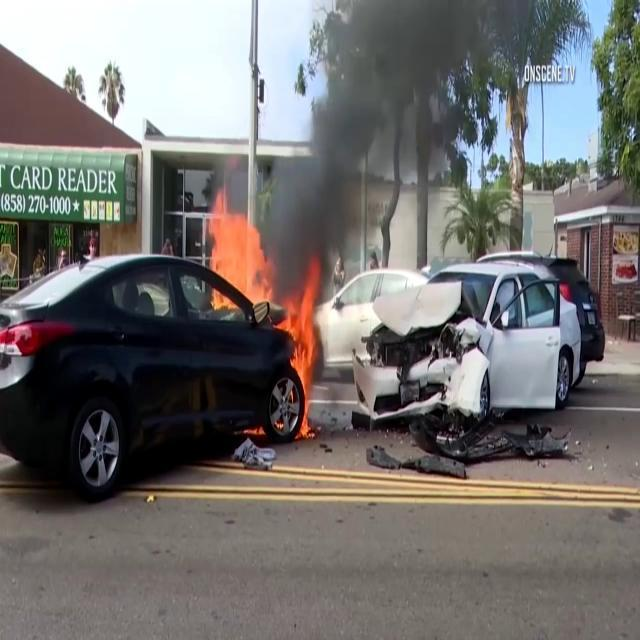Fire: (204, 210, 264, 311), (286, 269, 320, 426)
Smoke: (276, 0, 470, 272)
